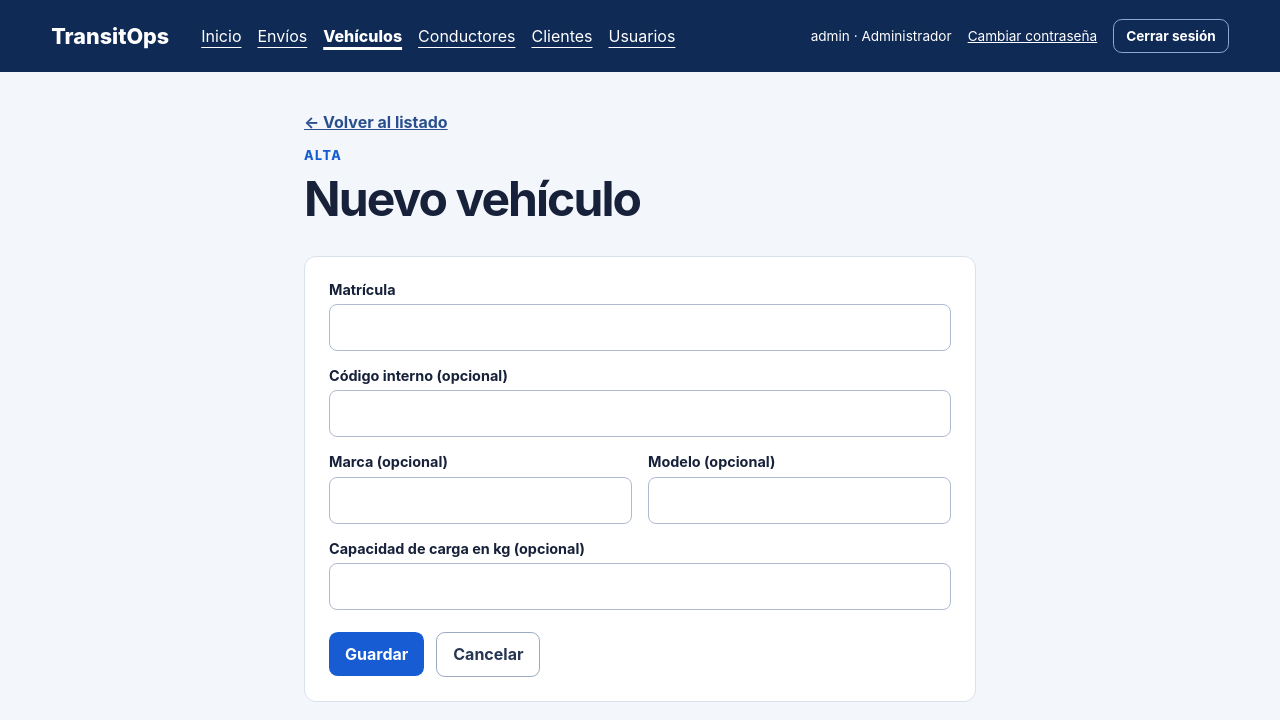
it: catálogos › creates a vehicle and redirects to its detail
The image size is (1280, 720).
Type "1234 ABC" into the field labelled "Matrícula".
click(640, 327); type("1234 ABC")  # box [329, 304, 951, 351]
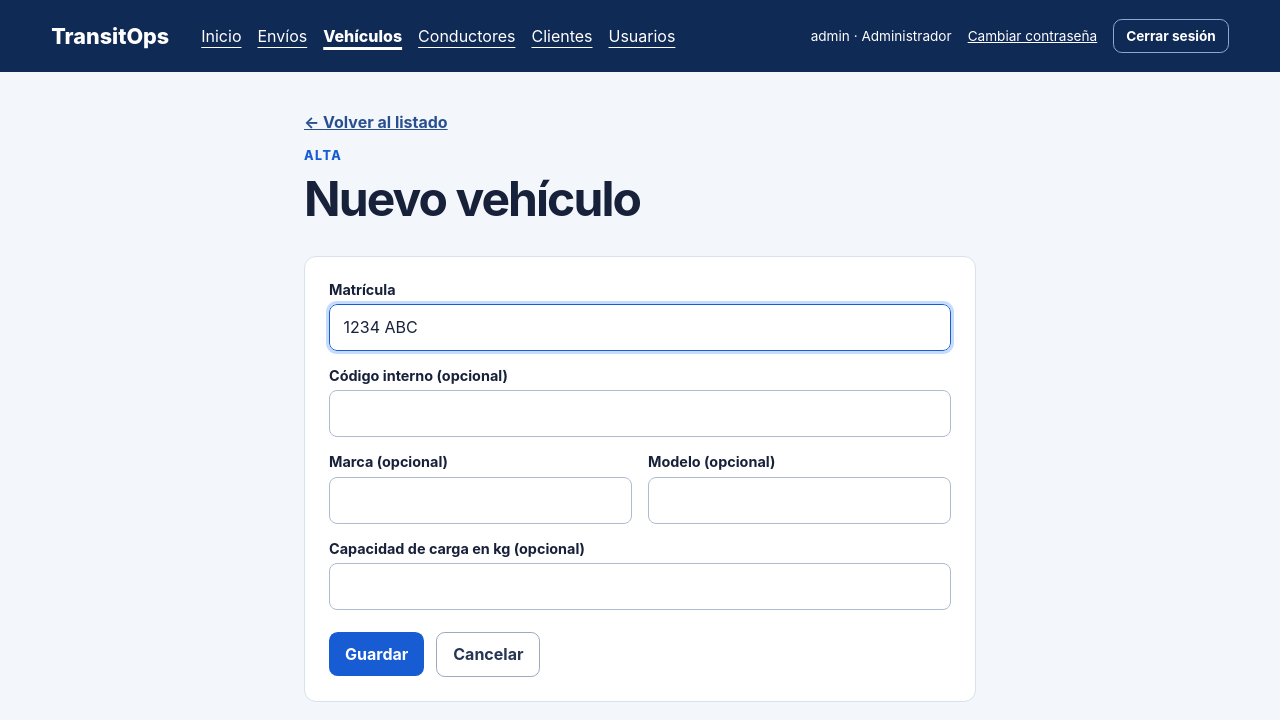
Click the button "Guardar".
click(377, 654)  # box [329, 632, 424, 676]
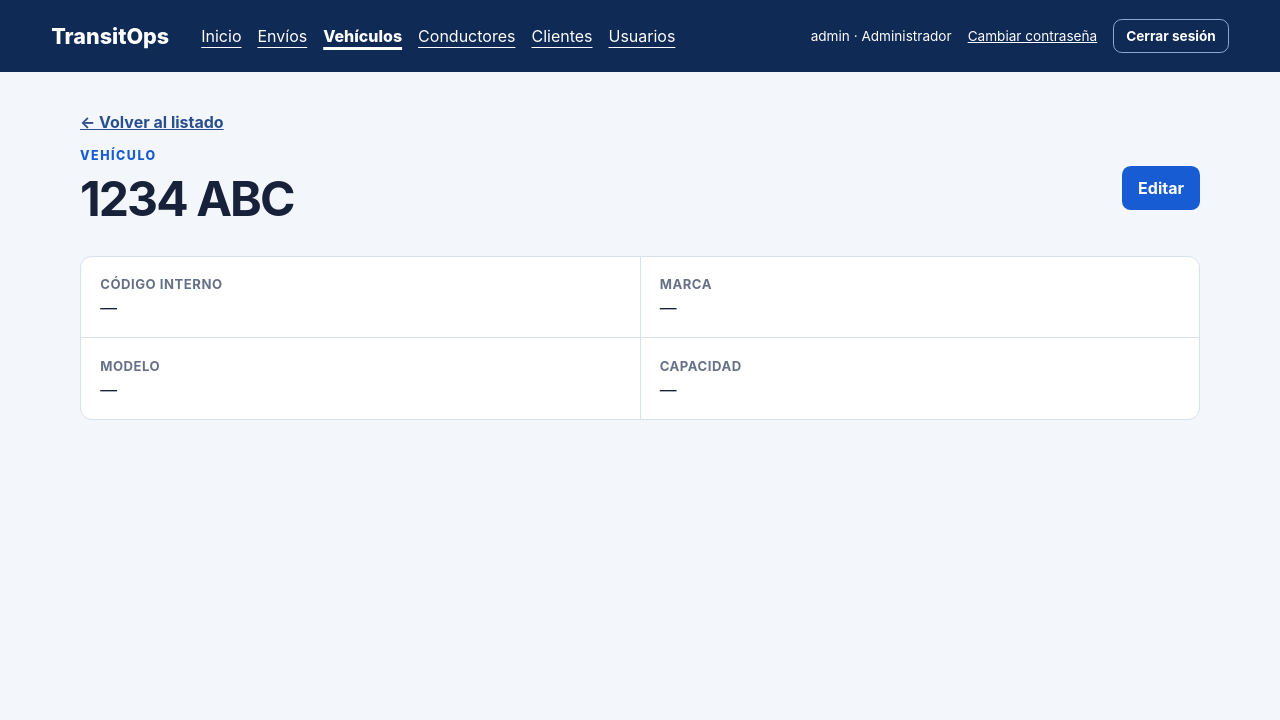
Expected: the heading "1234 ABC" is shown, [80, 169, 294, 228]
